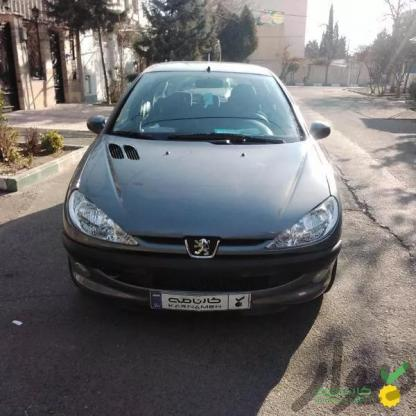Car: (60, 62, 352, 328)
